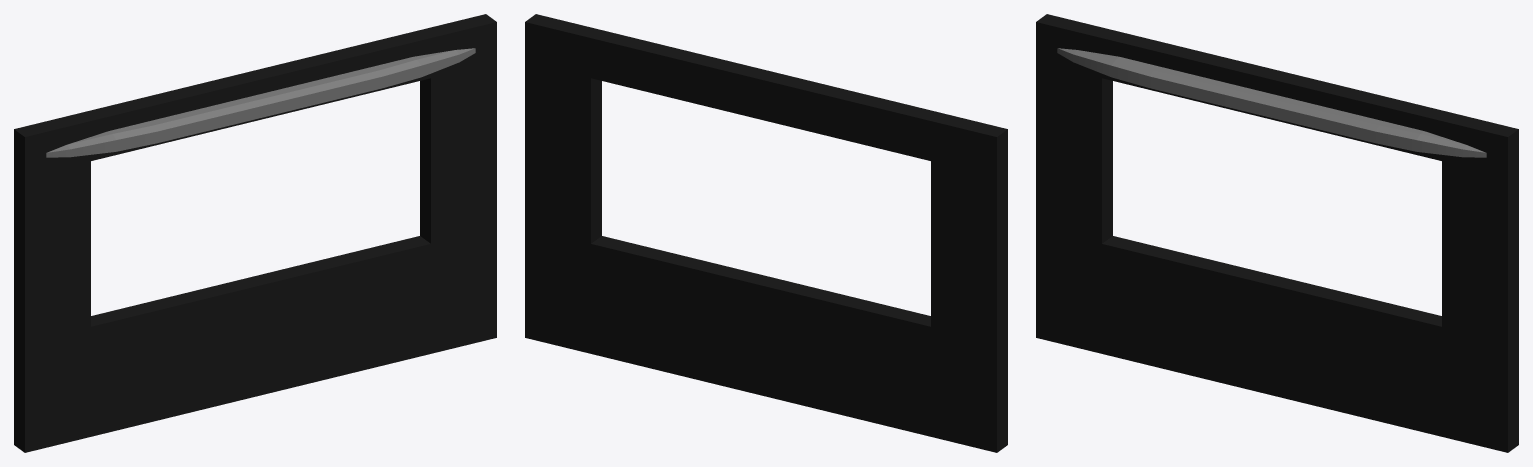
The model's file is Itr_Oven_Door_02.FBX.
3 views of the same model, side by side, from view 1: azimuth 30°, elevation 25°; view 2: azimuth 150°, elevation 25°; view 3: azimuth 330°, elevation 25° (orthographic).
Visible parts, largest first — view 1: Itr_Oven_Door_02; view 2: Itr_Oven_Door_02; view 3: Itr_Oven_Door_02.
Part boxes in pixels (x1,y1,x2,y2): Itr_Oven_Door_02: (14,14,496,452); Itr_Oven_Door_02: (525,14,1007,452); Itr_Oven_Door_02: (1036,14,1518,452).
Bounding box in the file's own units: 45.15 × 28.87 × 3.37.
